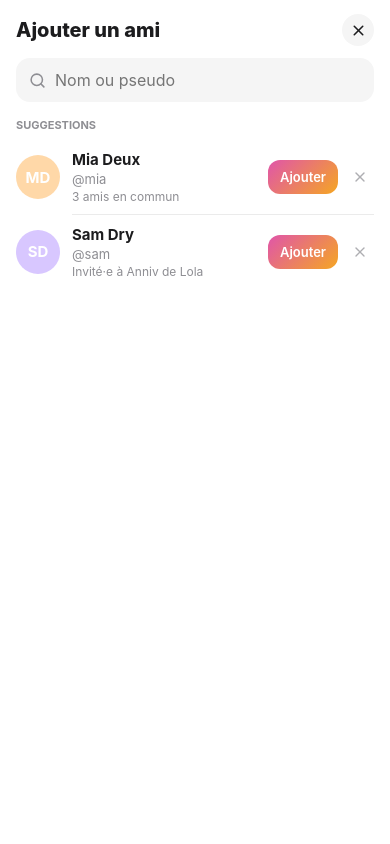
FriendSearchSheet › « Ajouter » devient « Demande envoyée »
This screenshot has width=390, height=844.
Expected: the text "Mia Deux" is shown, [72, 150, 140, 169]
Step 1. Click the button "Ajouter" next to "3 amis en commun" → (303, 177), box [268, 160, 338, 194]
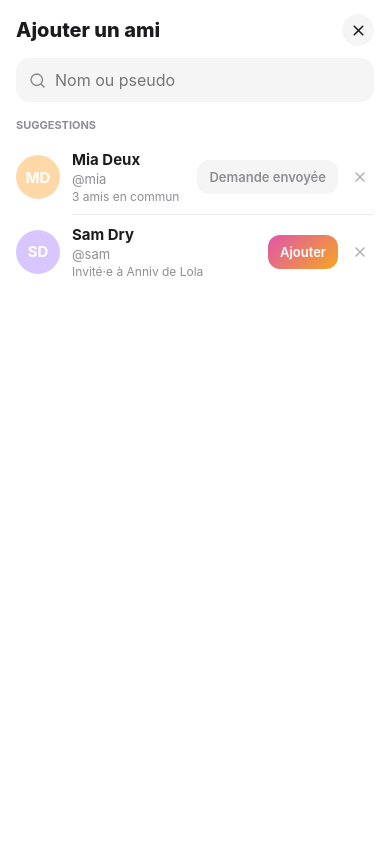
Expected: the button "Demande envoyée" is shown, [198, 160, 338, 194]
